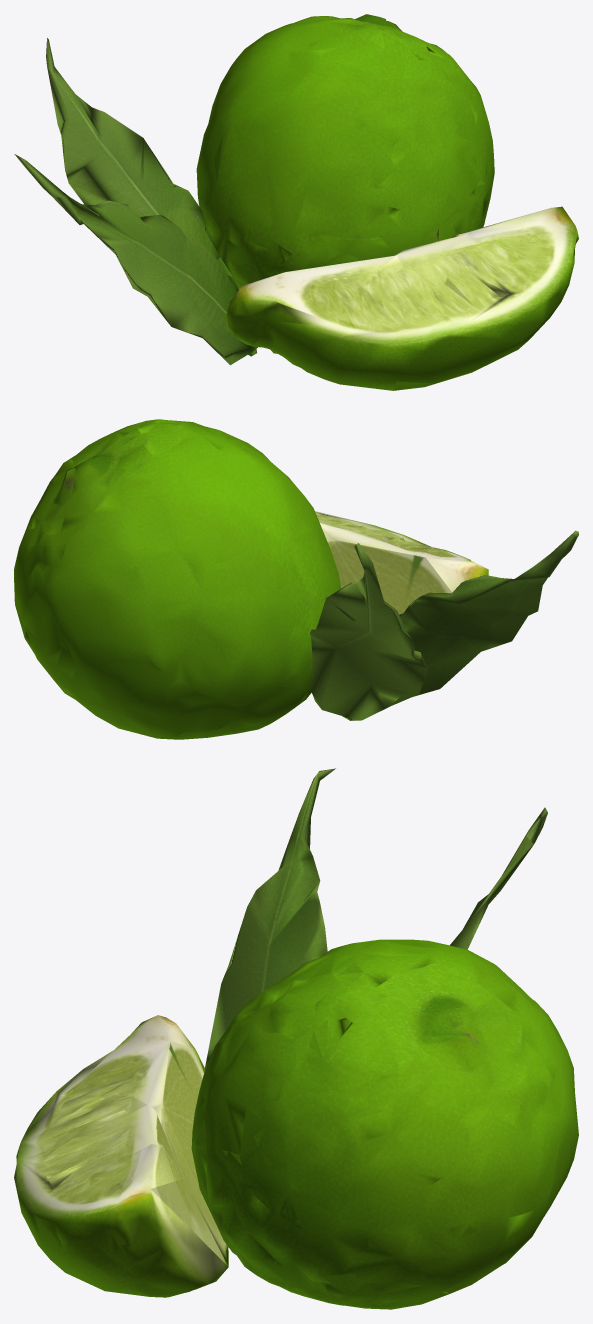
Rendered from Meshy_AI_Fresh_Lime_with_Leave_0903073620_texture.fbx.
3 renders of one model, top to bottom at view 1: azimuth 30°, elevation 25°; view 2: azimuth 150°, elevation 25°; view 3: azimuth 270°, elevation 25°, orthographic. The views are drawn at different scales.
Visible parts, largest first — view 1: mesh_node; view 2: mesh_node; view 3: mesh_node.
Boxes of the visible parts, <box> form: mesh_node: <box>14,14,578,390</box>; mesh_node: <box>14,419,578,739</box>; mesh_node: <box>14,768,578,1309</box>.
Bounding box in the file's own units: 189 × 105 × 155.
Materials: 1 (1 with a texture image).
